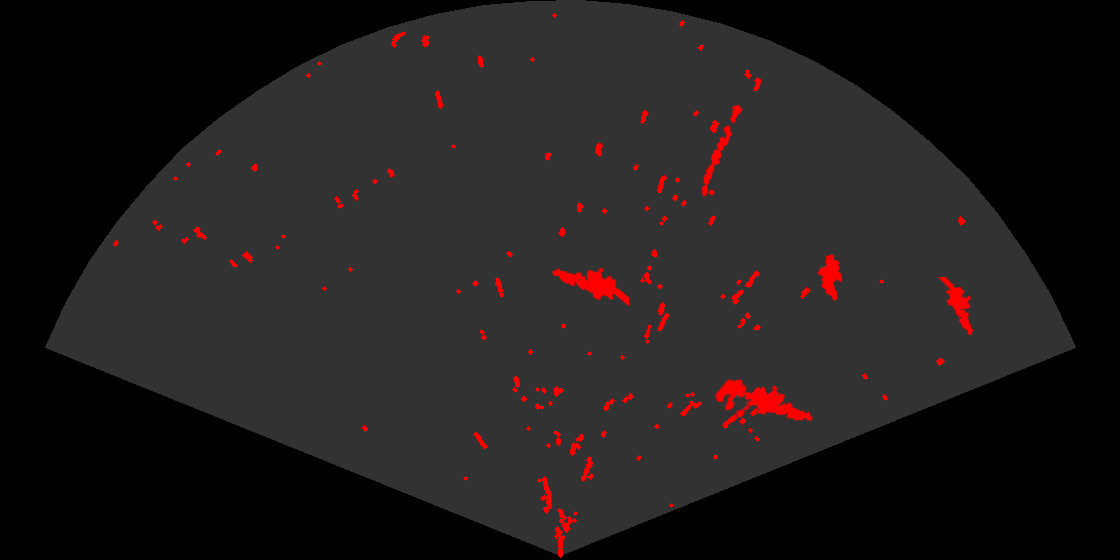AUV: (816, 252, 844, 302)
ball: (714, 378, 757, 419)
chain: (700, 102, 744, 198)
frogman: (551, 267, 629, 308), (745, 384, 814, 422), (936, 277, 975, 337)
